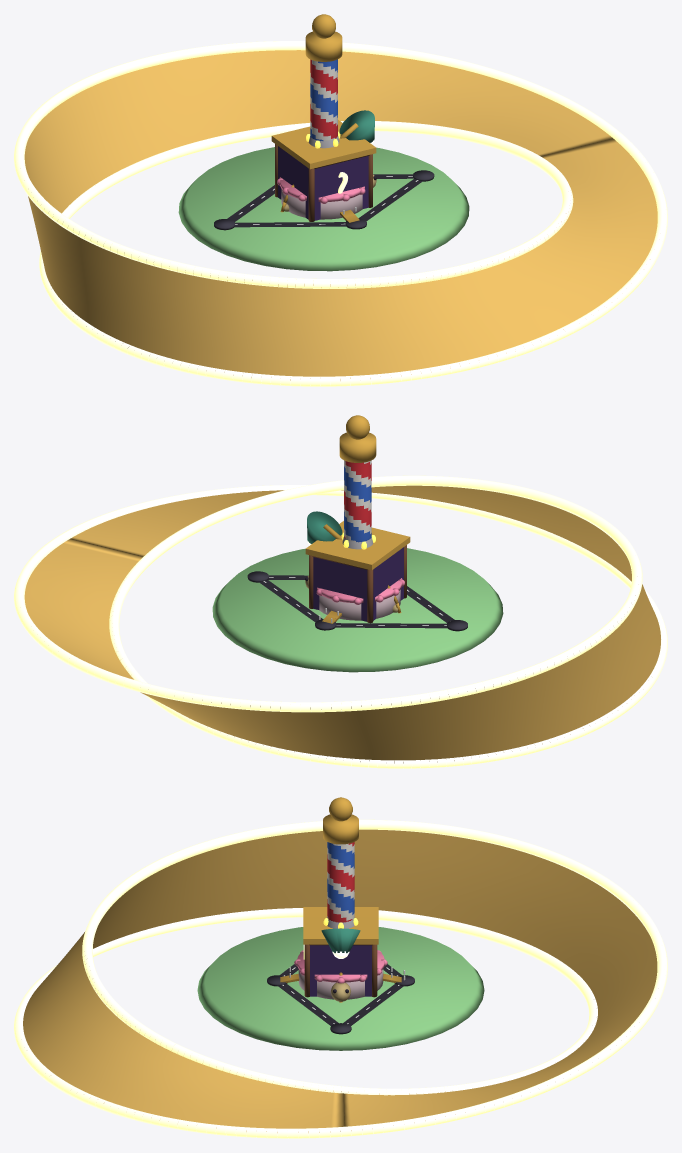
File: paradox_props.glb
3 renders of one model, top to bottom at view 1: azimuth 30°, elevation 25°; view 2: azimuth 150°, elevation 25°; view 3: azimuth 270°, elevation 25°, orthographic.
Parts seen in each view (by area): view 1: pd_mobius, px_diorama, px_boxB, px_pole, px_roads, px_cake, px_lamp, px_boxA; view 2: pd_mobius, px_diorama, px_boxB, px_pole, px_roads, px_cake, px_lamp, px_boxA; view 3: pd_mobius, px_diorama, px_boxB, px_pole, px_cake, px_roads, px_boxA, px_lamp.
Boxes of the visible parts, x1,y1,x2,y2 form: pd_mobius: [14, 41, 667, 386]; px_diorama: [178, 147, 469, 271]; px_boxB: [271, 120, 376, 220]; px_pole: [305, 14, 342, 141]; px_roads: [227, 174, 422, 227]; px_cake: [277, 177, 365, 219]; px_lamp: [339, 110, 374, 142]; px_boxA: [275, 144, 372, 221]; pd_mobius: [14, 475, 667, 768]; px_diorama: [212, 548, 503, 672]; px_boxB: [305, 521, 410, 621]; px_pole: [339, 415, 376, 542]; px_roads: [259, 575, 454, 628]; px_cake: [316, 578, 404, 620]; px_lamp: [307, 511, 342, 543]; px_boxA: [309, 545, 406, 623]; pd_mobius: [14, 819, 667, 1138]; px_diorama: [197, 927, 484, 1050]; px_boxB: [303, 907, 378, 996]; px_pole: [323, 797, 358, 922]; px_cake: [294, 950, 387, 999]; px_roads: [277, 964, 404, 1025]; px_boxA: [304, 944, 377, 997]; px_lamp: [321, 928, 360, 953].
Size of the model in its own units: 4.2 by 1.76 by 4.33.
